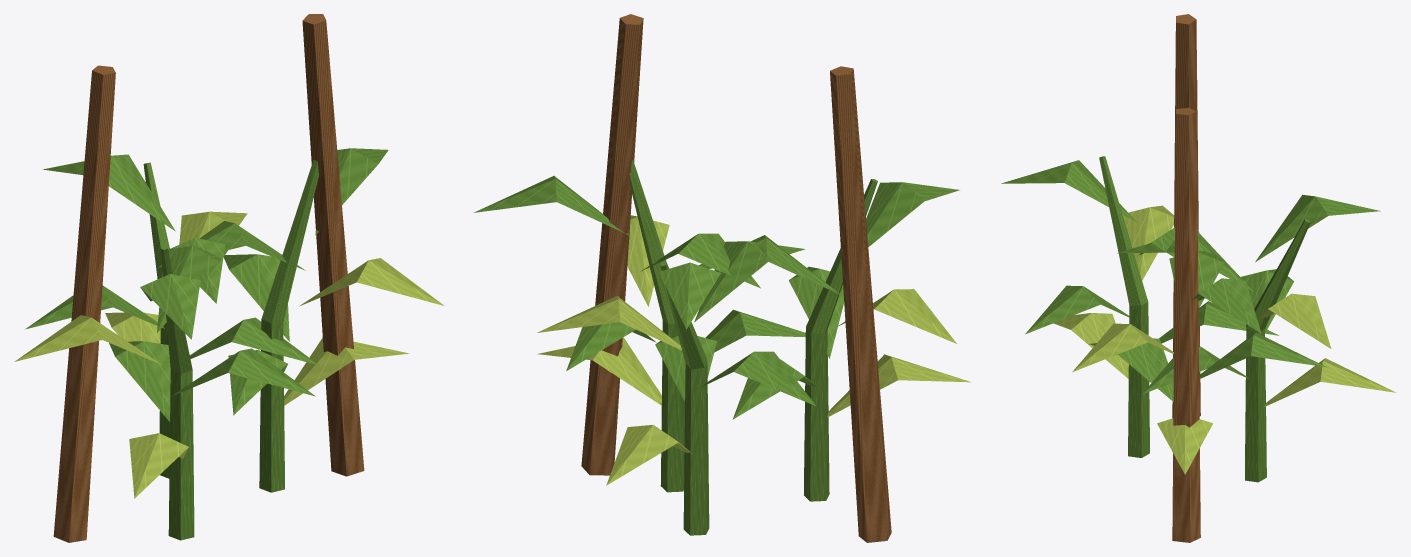
Rendered from crop-bean-young.glb.
The picture shows the model from 3 angles, left to right: view 1: azimuth 30°, elevation 25°; view 2: azimuth 150°, elevation 25°; view 3: azimuth 270°, elevation 25°; orthographic projection. The views are drawn at different scales.
Parts seen in each view (by area): view 1: crop-bean-young; view 2: crop-bean-young; view 3: crop-bean-young.
Boxes of the visible parts, x1=… form: crop-bean-young: x1=14, y1=14, x2=444, y2=542; crop-bean-young: x1=473, y1=14, x2=970, y2=542; crop-bean-young: x1=1001, y1=14, x2=1395, y2=542.
Bounding box in the file's own units: 0.5108 × 0.5223 × 0.4544.
1 material, 1 textured.
